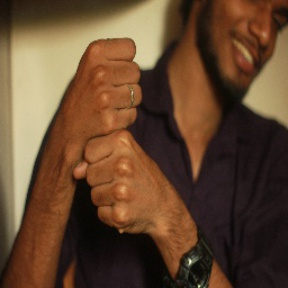G: (49, 32, 163, 237)
